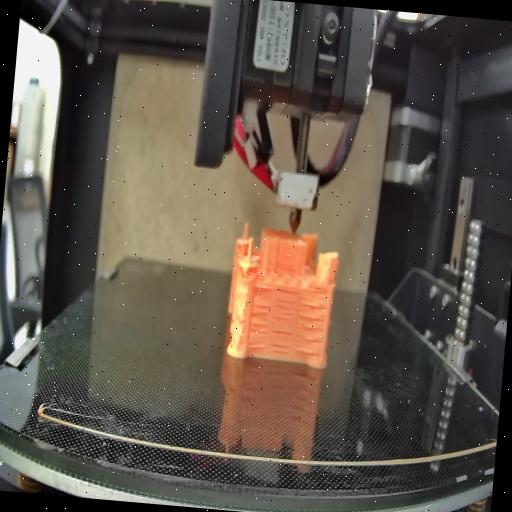cracks: (294, 300, 332, 357), (247, 302, 272, 350), (272, 288, 296, 328), (270, 328, 294, 354), (252, 284, 274, 293)
